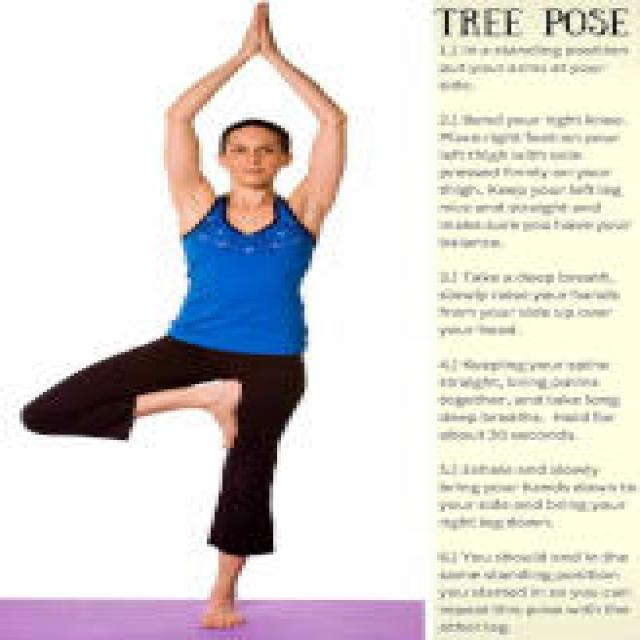yoga-pose tree: (19, 0, 359, 629)
